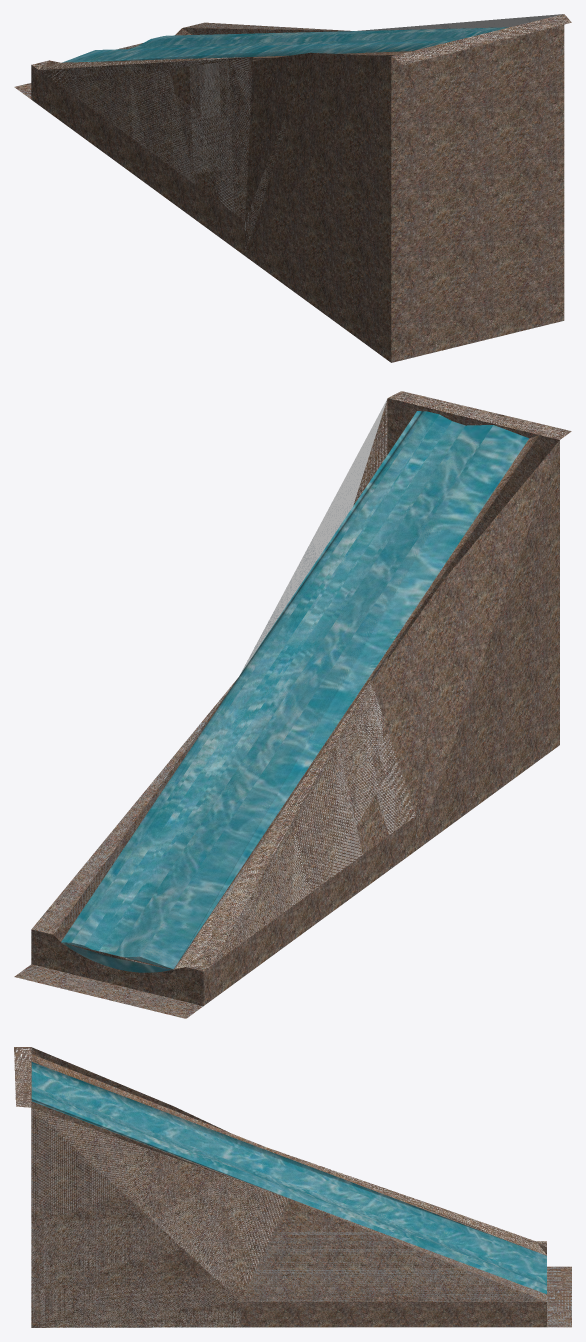
Rendered from resister_noWheel.fbx.
3 renders of one model, top to bottom at view 1: azimuth 30°, elevation 25°; view 2: azimuth 150°, elevation 25°; view 3: azimuth 270°, elevation 25°, orthographic. The views are drawn at different scales.
Parts seen in each view (by area): view 1: Model; view 2: Model; view 3: Model.
Part boxes in pixels (box(x1,y1,x2,y2)): Model: box(14, 14, 571, 362); Model: box(14, 391, 571, 1018); Model: box(14, 1047, 571, 1327).
Size of the model in its own units: 65.36 by 111 by 253.
